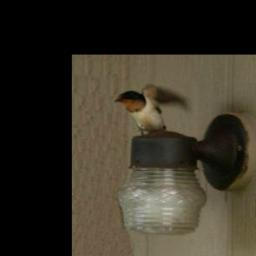Swallow: (114, 83, 191, 135)
